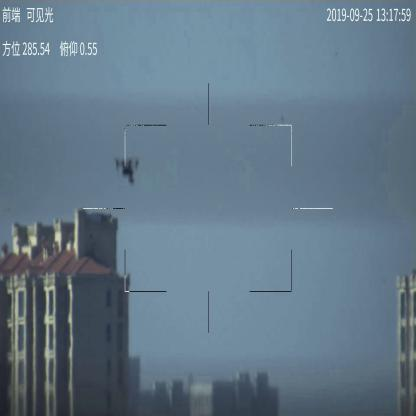uav: (116, 153, 140, 184)
